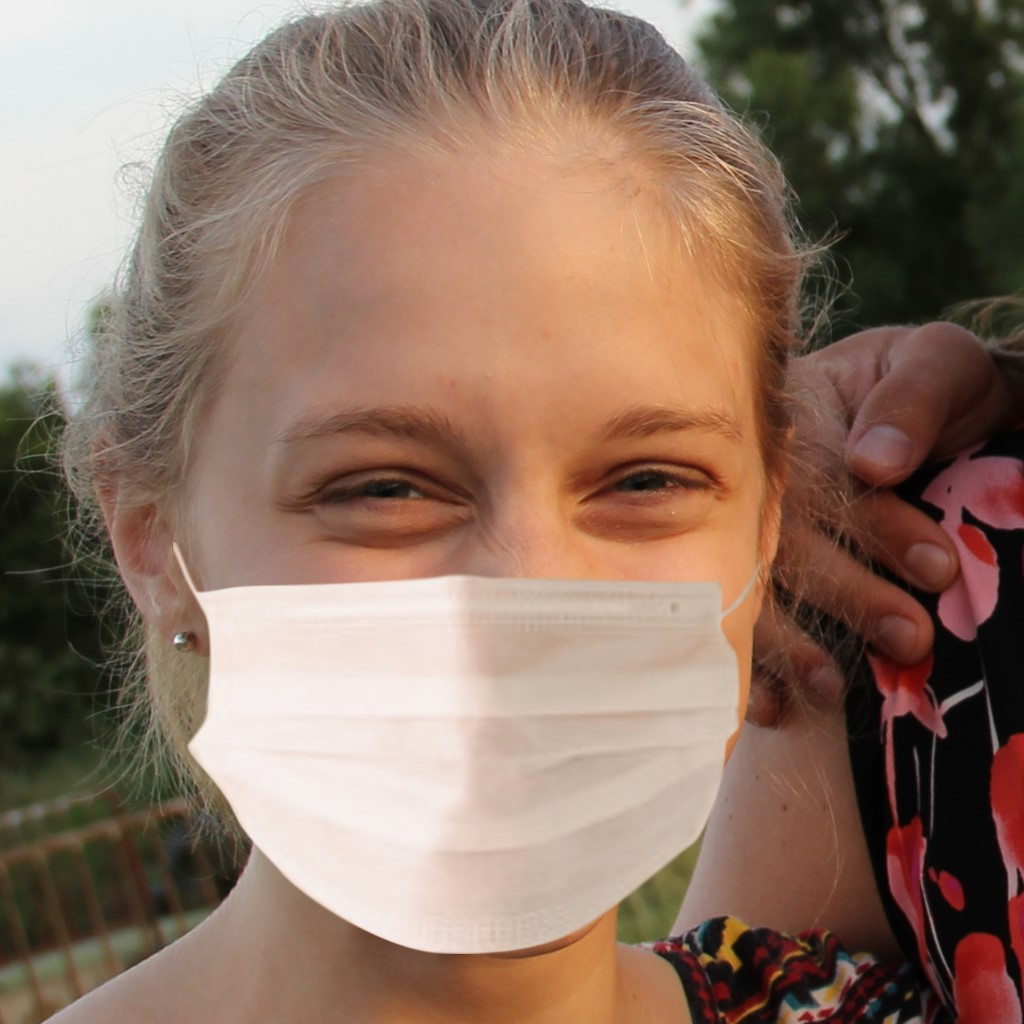con_mascara: (154, 87, 761, 966)
